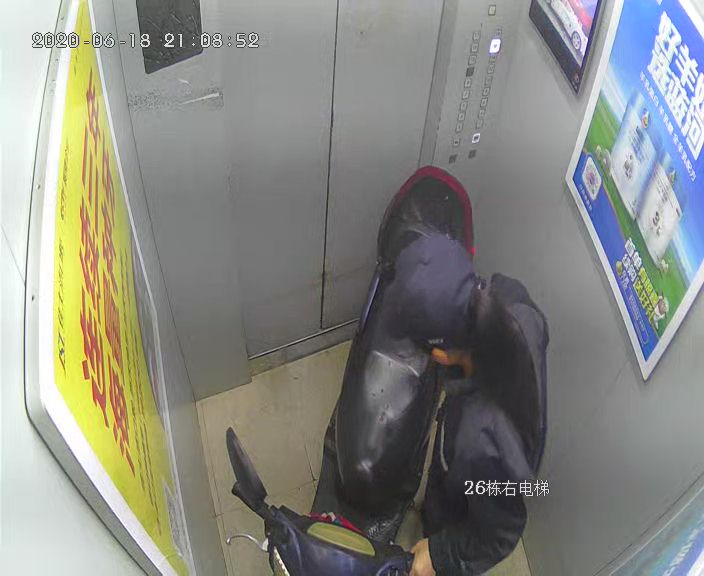Electric-bicycle: (222, 165, 467, 576)
